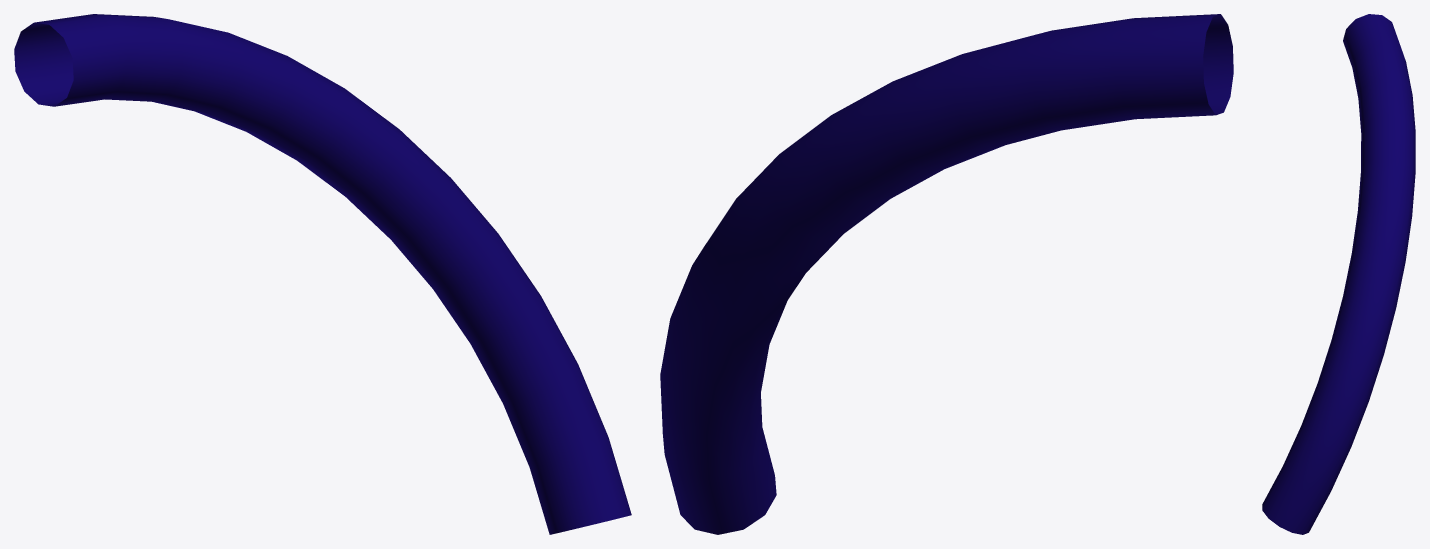
File: dark blue.obj
3 renders of one model, left to right at view 1: azimuth 30°, elevation 25°; view 2: azimuth 150°, elevation 25°; view 3: azimuth 270°, elevation 25°, orthographic. The views are drawn at different scales.
Visible parts, largest first — view 1: Rainbow_Purple_0; view 2: Rainbow_Purple_0; view 3: Rainbow_Purple_0.
Part boxes in pixels (x1,y1,x2,y2): Rainbow_Purple_0: [14, 14, 631, 534]; Rainbow_Purple_0: [660, 14, 1233, 534]; Rainbow_Purple_0: [1262, 14, 1415, 534].
Size of the model in its own units: 0.0497 by 0.0527 by 0.0199.
